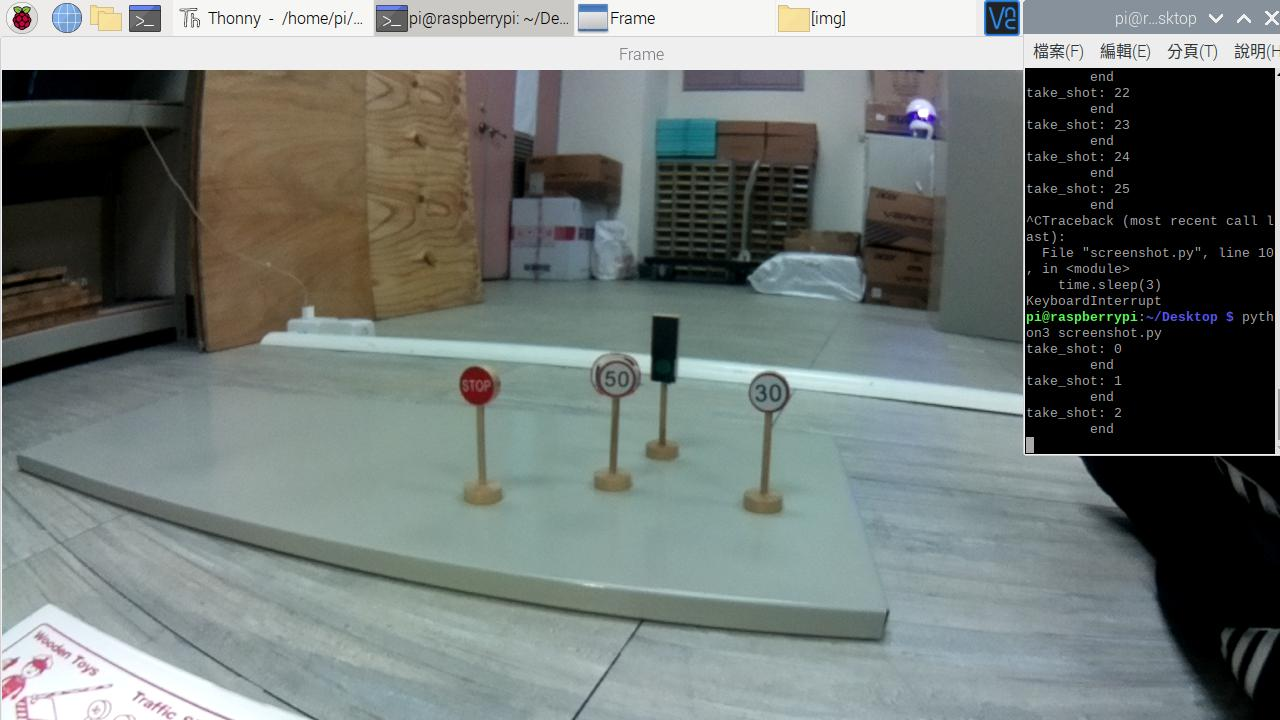Green: (651, 314, 676, 386)
Speed30: (750, 369, 788, 411)
Speed50: (601, 353, 633, 398)
Stop: (458, 364, 497, 399)
